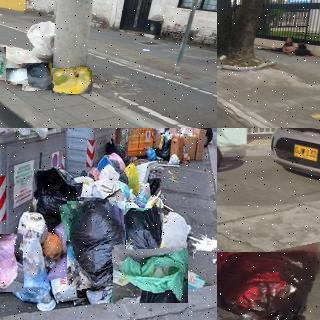Garbage: (217, 246, 320, 320), (63, 199, 129, 288), (113, 249, 188, 304), (30, 164, 92, 222), (125, 207, 166, 262), (16, 239, 52, 301), (93, 176, 133, 221), (160, 209, 193, 259), (14, 206, 50, 244), (0, 233, 23, 292), (49, 66, 93, 96), (22, 62, 53, 91), (100, 160, 127, 181), (125, 162, 141, 196), (6, 68, 27, 85)
